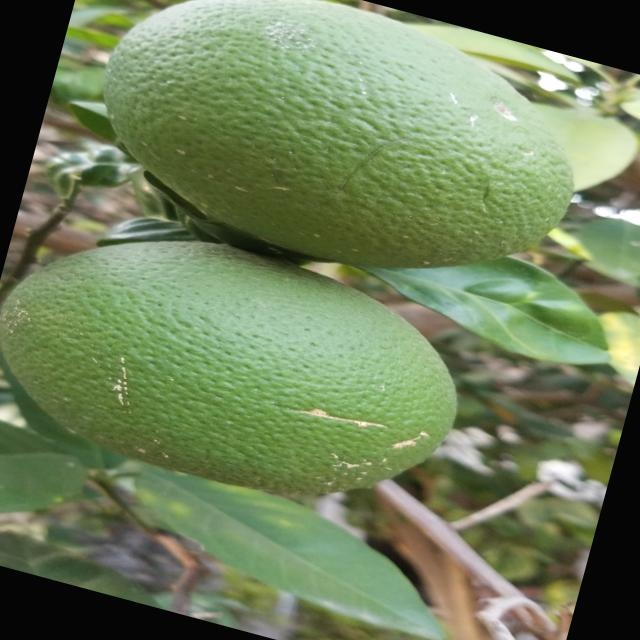agrume: (0, 196, 489, 548), (70, 0, 608, 319)
